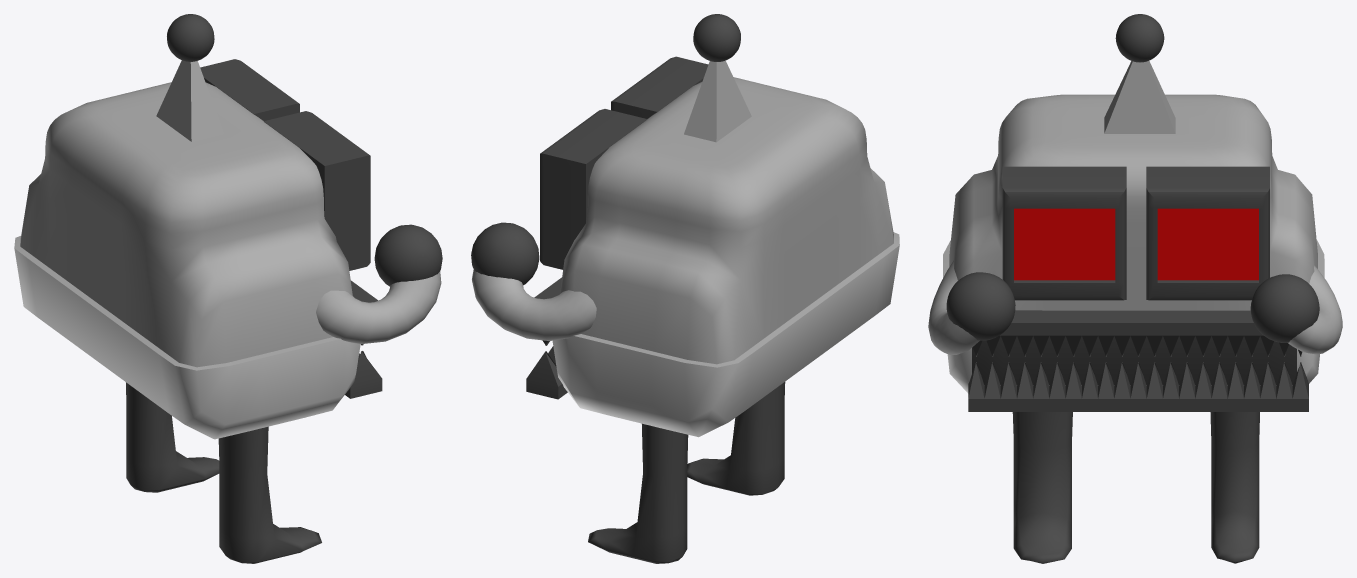
Rendered from robot.fbx.
3 renders of one model, left to right at view 1: azimuth 30°, elevation 25°; view 2: azimuth 150°, elevation 25°; view 3: azimuth 270°, elevation 25°, orthographic.
Visible parts, largest first — view 1: pCube9; view 2: pCube9; view 3: pCube9.
Part boxes in pixels (x1,y1,x2,y2): pCube9: (14, 14, 442, 563); pCube9: (471, 14, 899, 563); pCube9: (928, 14, 1342, 563).
Size of the model in its own units: 8.41 by 15.2 by 11.12.
